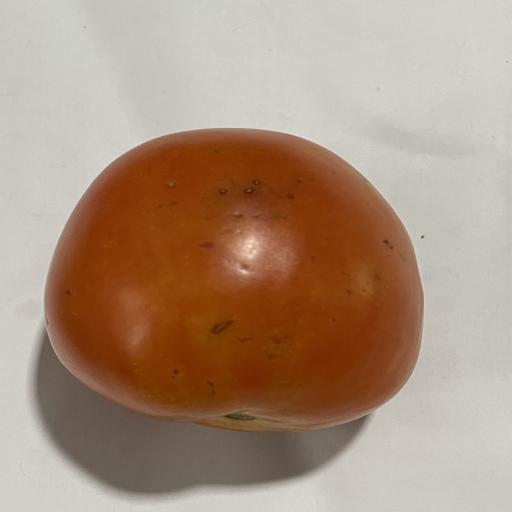ripe: (44, 129, 423, 431)
